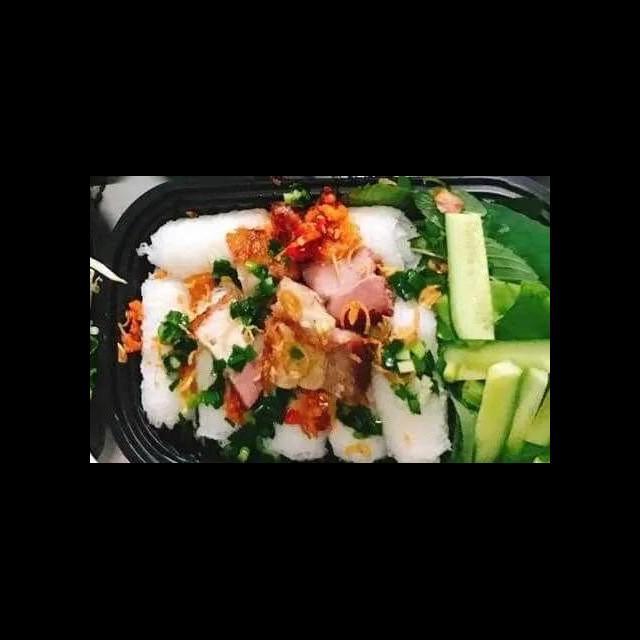banh hoi: (361, 294, 457, 463), (133, 266, 209, 434), (131, 202, 284, 284), (311, 198, 431, 282), (186, 338, 251, 450), (324, 392, 394, 464), (257, 412, 332, 464)
banh hoi heo quay: (112, 198, 550, 460)
thit heo quay: (254, 274, 384, 414), (186, 286, 281, 410), (295, 240, 400, 336)
